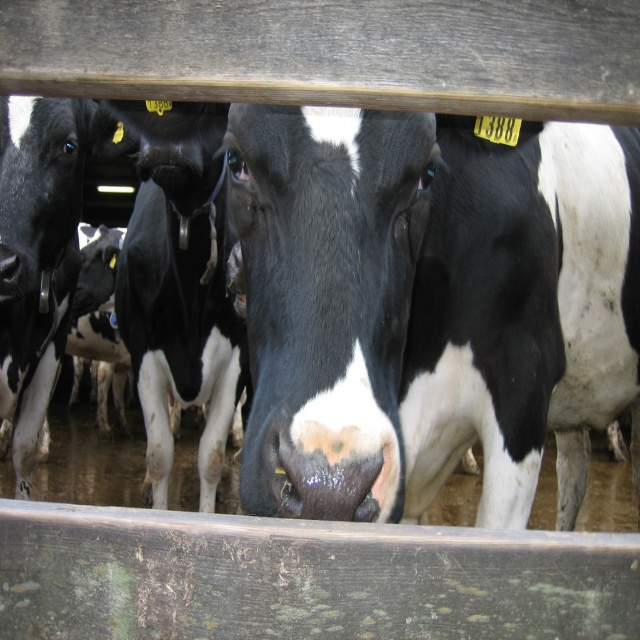Cattle: (0, 95, 640, 532)
